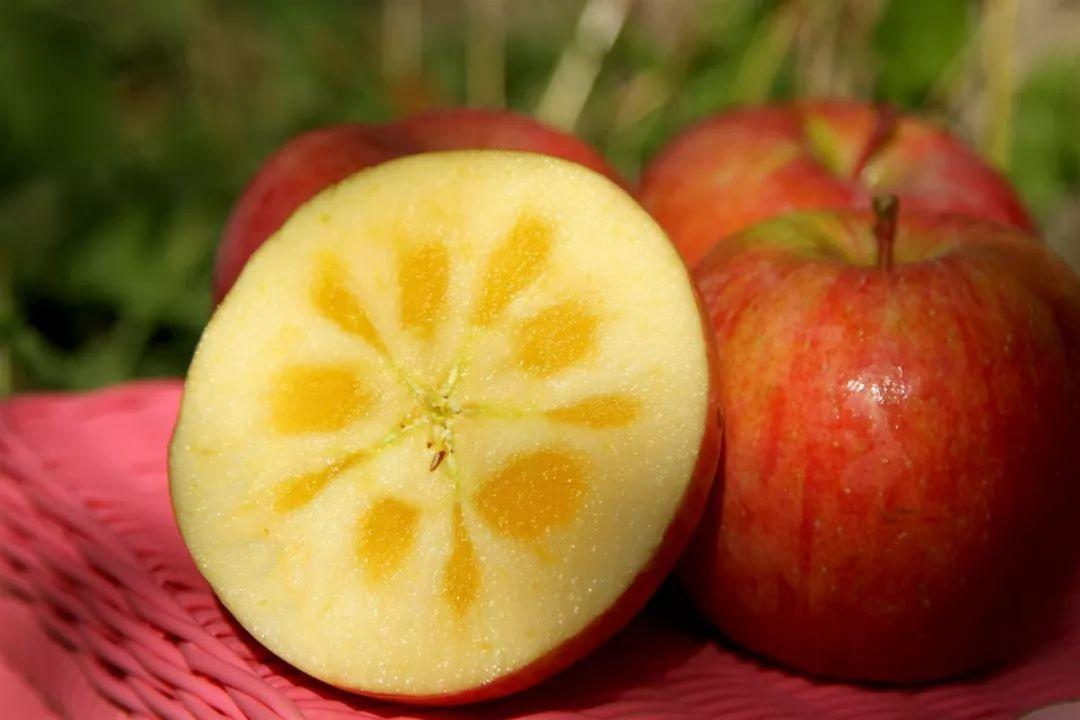apple: (674, 173, 1074, 687)
